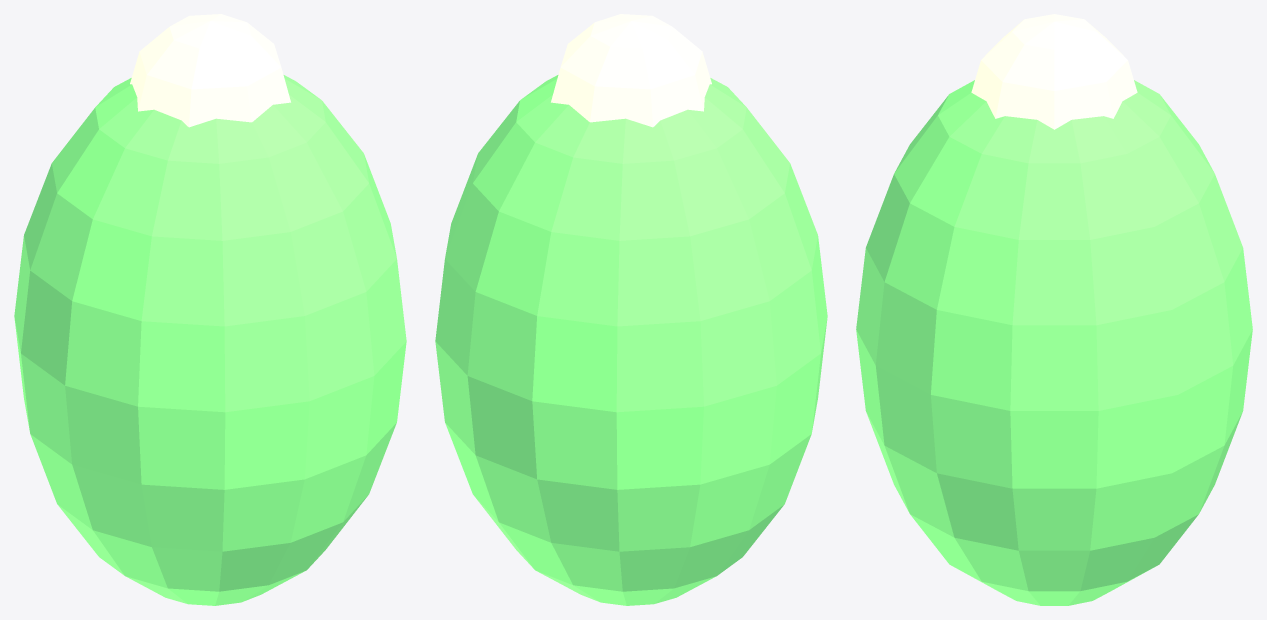
Rendered from semilla_explosiva.glb.
The picture shows the model from 3 angles, left to right: view 1: azimuth 30°, elevation 25°; view 2: azimuth 150°, elevation 25°; view 3: azimuth 270°, elevation 25°; orthographic projection.
Visible parts, largest first — view 1: Sphere, Sphere.001; view 2: Sphere, Sphere.001; view 3: Sphere, Sphere.001.
Part boxes in pixels (x1=…): Sphere: x1=14, y1=75, x2=406, y2=605; Sphere.001: x1=130, y1=14, x2=290, y2=127; Sphere: x1=435, y1=75, x2=827, y2=605; Sphere.001: x1=551, y1=14, x2=711, y2=127; Sphere: x1=856, y1=80, x2=1252, y2=605; Sphere.001: x1=971, y1=14, x2=1137, y2=129.
Bounding box in the file's own units: 0.3646 × 0.595 × 0.374.
